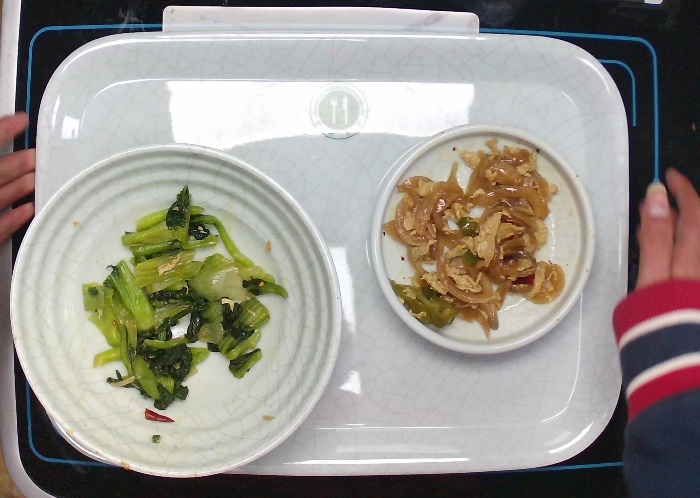JYsf-Da_Tang_Wan: (7, 135, 349, 480)
JYsf-Xiao_Yuan_Pan: (368, 122, 596, 357)
